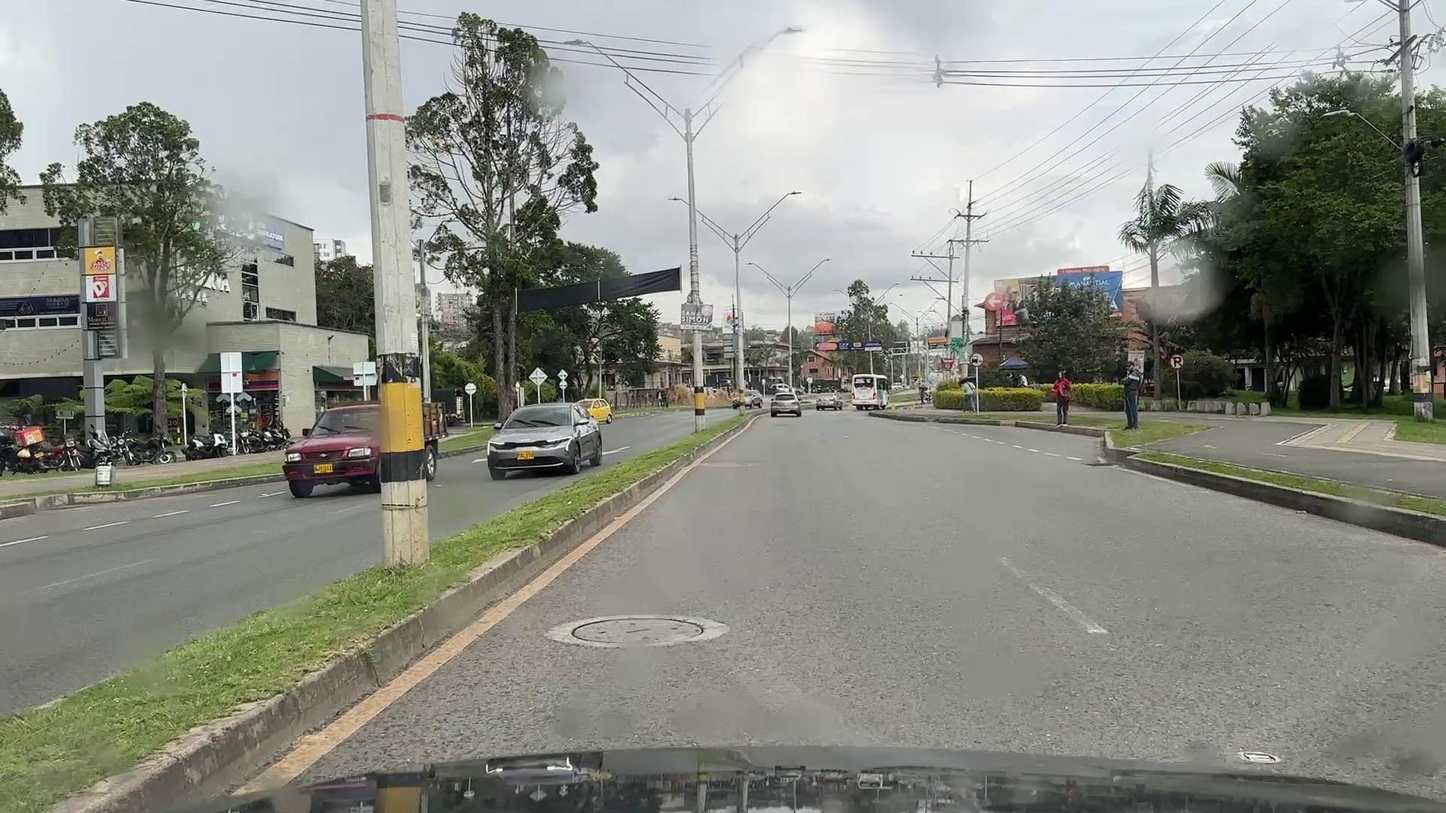registro: (572, 618, 704, 644)
rejilla: (1082, 463, 1124, 467)
